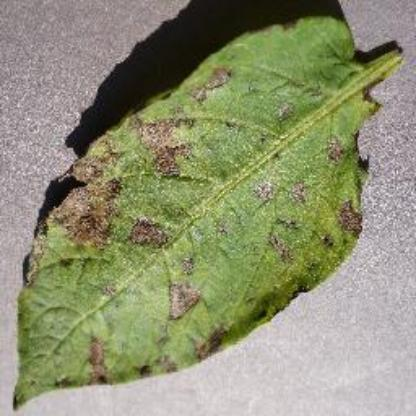Early-Blight: (13, 11, 406, 412)
